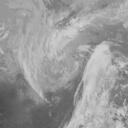cyclone: (26, 35, 91, 94)
